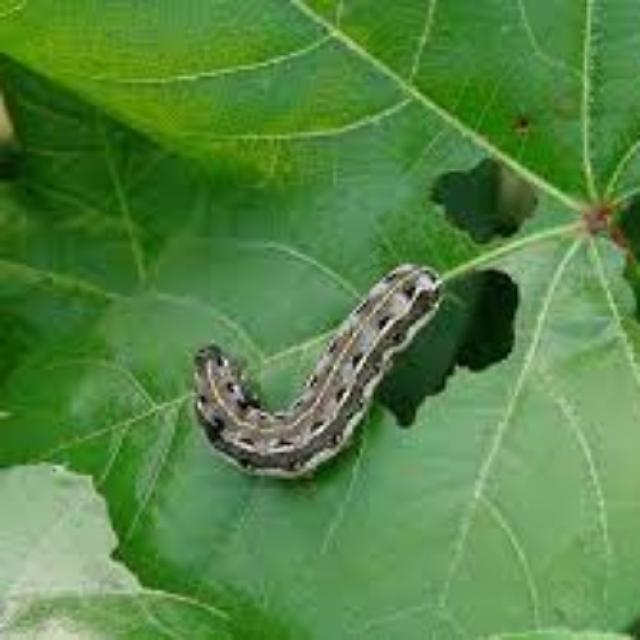armyworm: (190, 260, 444, 481)
